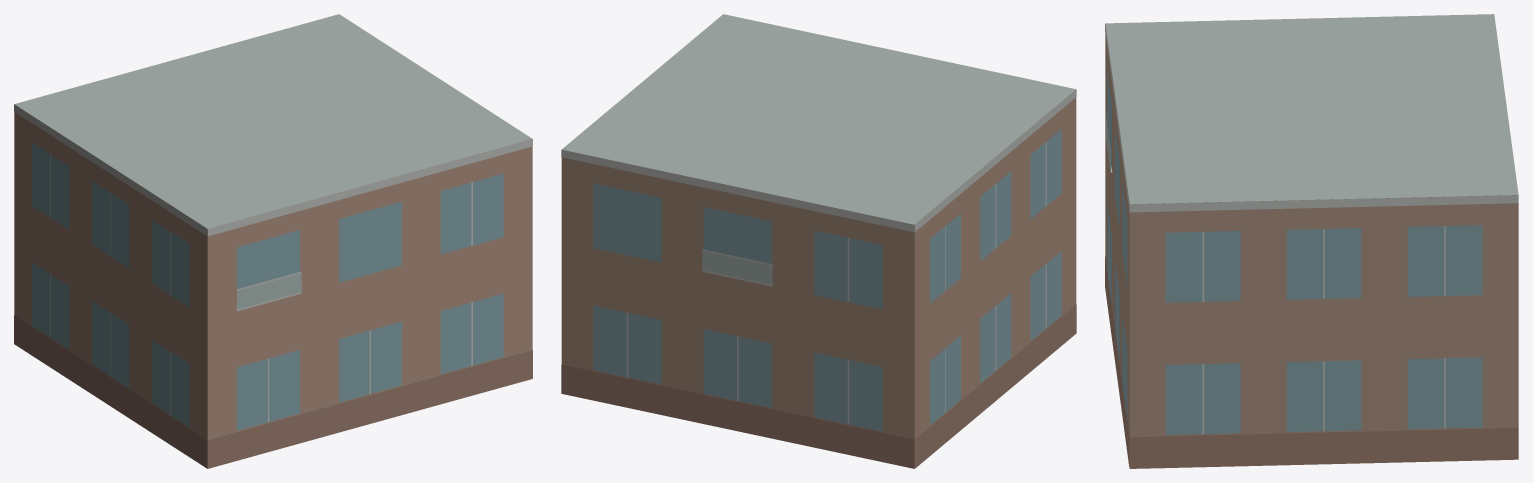
The model's file is survey-upis-32743902.glb.
The picture shows the model from 3 angles, left to right: view 1: azimuth 30°, elevation 25°; view 2: azimuth 150°, elevation 25°; view 3: azimuth 270°, elevation 25°; orthographic projection. The views are drawn at different scales.
Visible parts, largest first — view 1: survey-upis-32743902.tmp; view 2: survey-upis-32743902.tmp; view 3: survey-upis-32743902.tmp.
Boxes of the visible parts, x1,y1,x2,y2 form: survey-upis-32743902.tmp: (14,14,532,468); survey-upis-32743902.tmp: (561,14,1076,468); survey-upis-32743902.tmp: (1105,14,1518,468).
Size of the model in its own units: 12.03 by 7.8 by 11.05.
